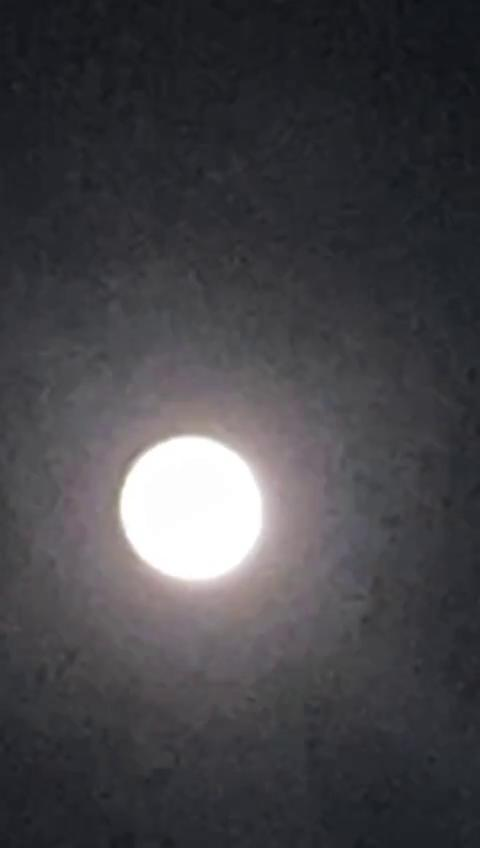moon: (90, 418, 268, 608)
